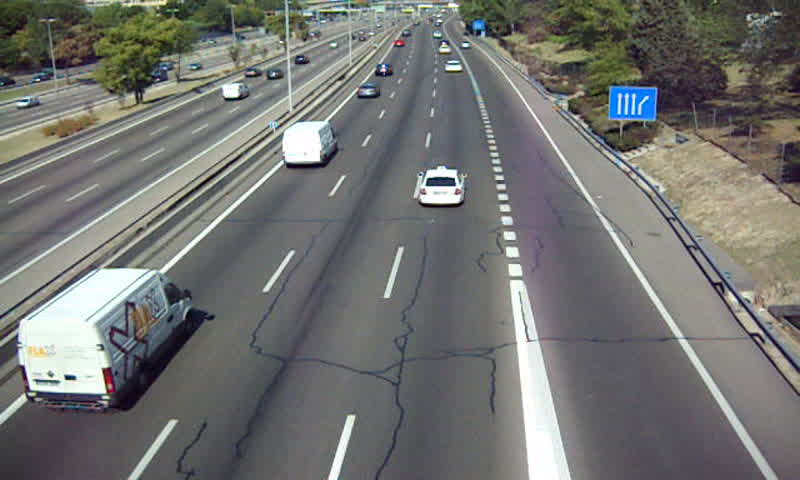car: (418, 168, 466, 206), (355, 84, 378, 101), (375, 62, 394, 78), (443, 60, 464, 74)
van: (15, 269, 192, 414), (282, 122, 337, 167)
